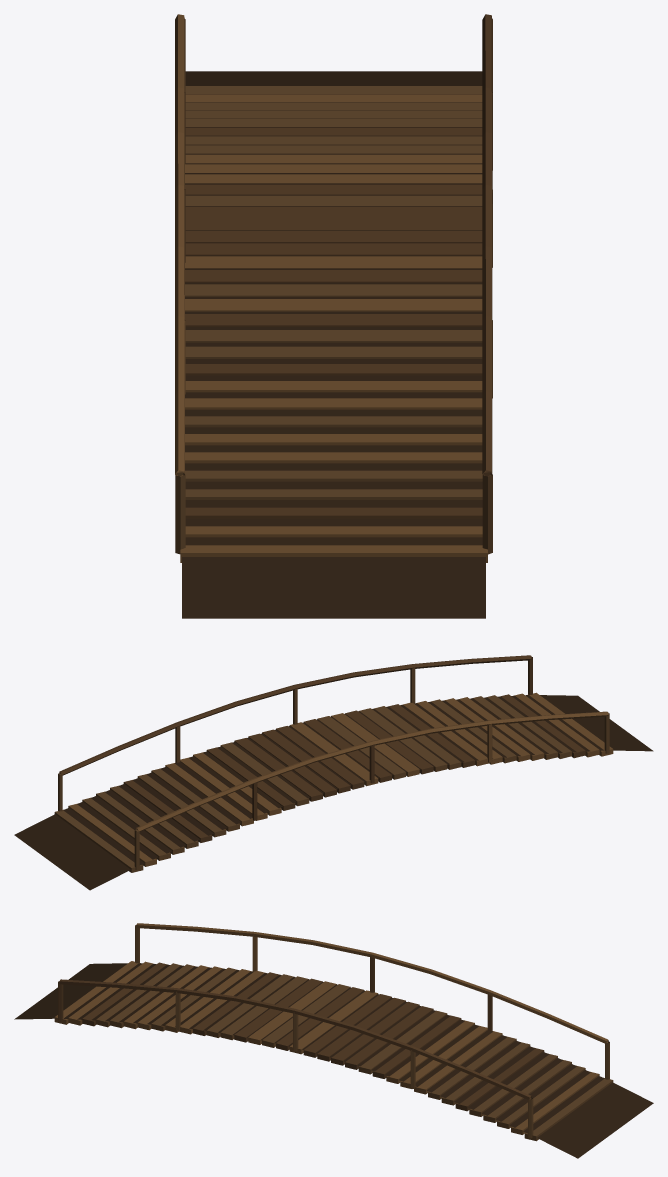
The model's file is SM_H13_Props.fbx.
The picture shows the model from 3 angles, top to bottom: view 1: azimuth 30°, elevation 25°; view 2: azimuth 150°, elevation 25°; view 3: azimuth 270°, elevation 25°; orthographic projection. The views are drawn at different scales.
Parts seen in each view (by area): view 1: SM_H13_Props; view 2: SM_H13_Props; view 3: SM_H13_Props.
Part boxes in pixels (x1,y1,x2,y2): SM_H13_Props: (175, 14, 492, 618); SM_H13_Props: (14, 655, 653, 890); SM_H13_Props: (14, 923, 653, 1158).
Bounding box in the file's own units: 10.11 × 2.08 × 14.15.
